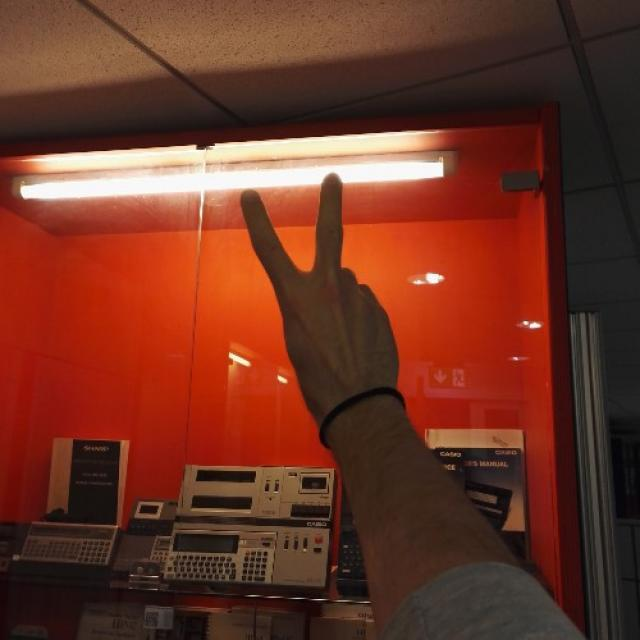scissors: (239, 171, 397, 402)
